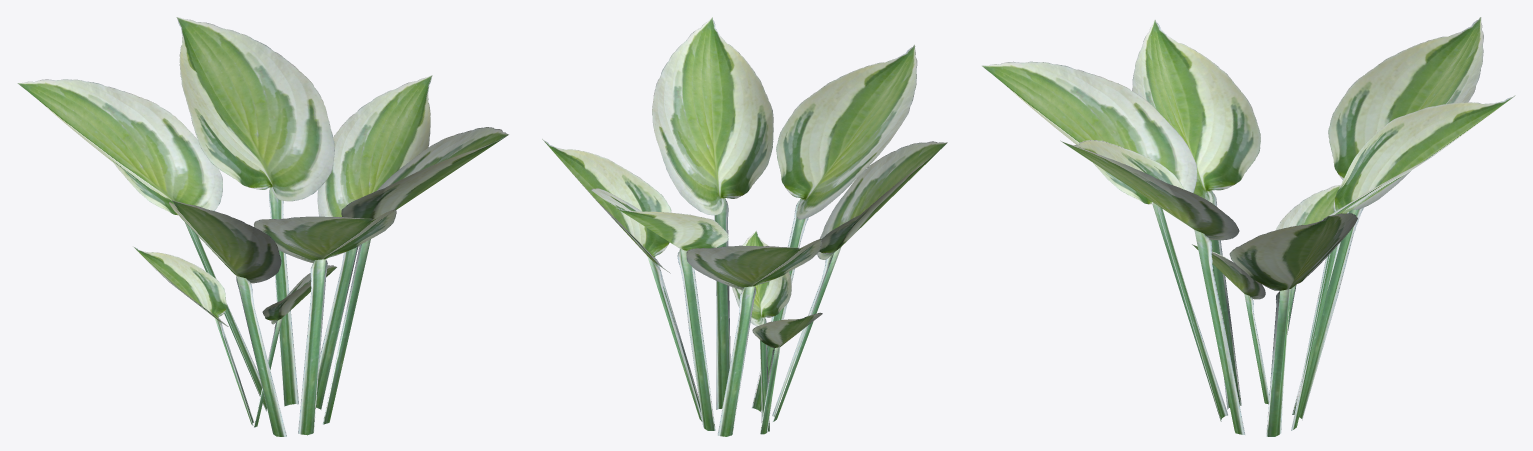
Rendered from plant_small_wg_02.fbx.
The picture shows the model from 3 angles, left to right: view 1: azimuth 30°, elevation 25°; view 2: azimuth 150°, elevation 25°; view 3: azimuth 270°, elevation 25°; orthographic projection. The views are drawn at different scales.
Parts seen in each view (by area): view 1: plant_small_wg_02; view 2: plant_small_wg_02; view 3: plant_small_wg_02.
Boxes of the visible parts, left/top/right/bottom form: plant_small_wg_02: left=17, top=17, right=508, bottom=436; plant_small_wg_02: left=542, top=17, right=947, bottom=436; plant_small_wg_02: left=981, top=17, right=1515, bottom=436.
Bounding box in the file's own units: 53.66 × 48.45 × 69.03.
